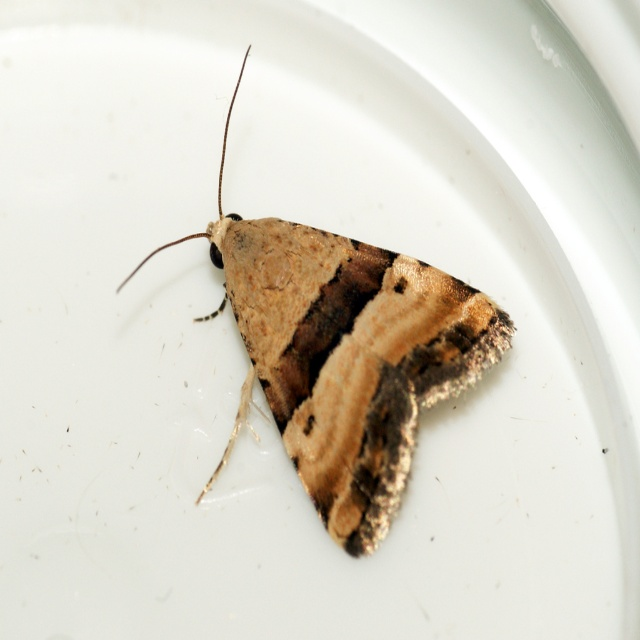Moths and butterflies: (114, 44, 516, 563)
